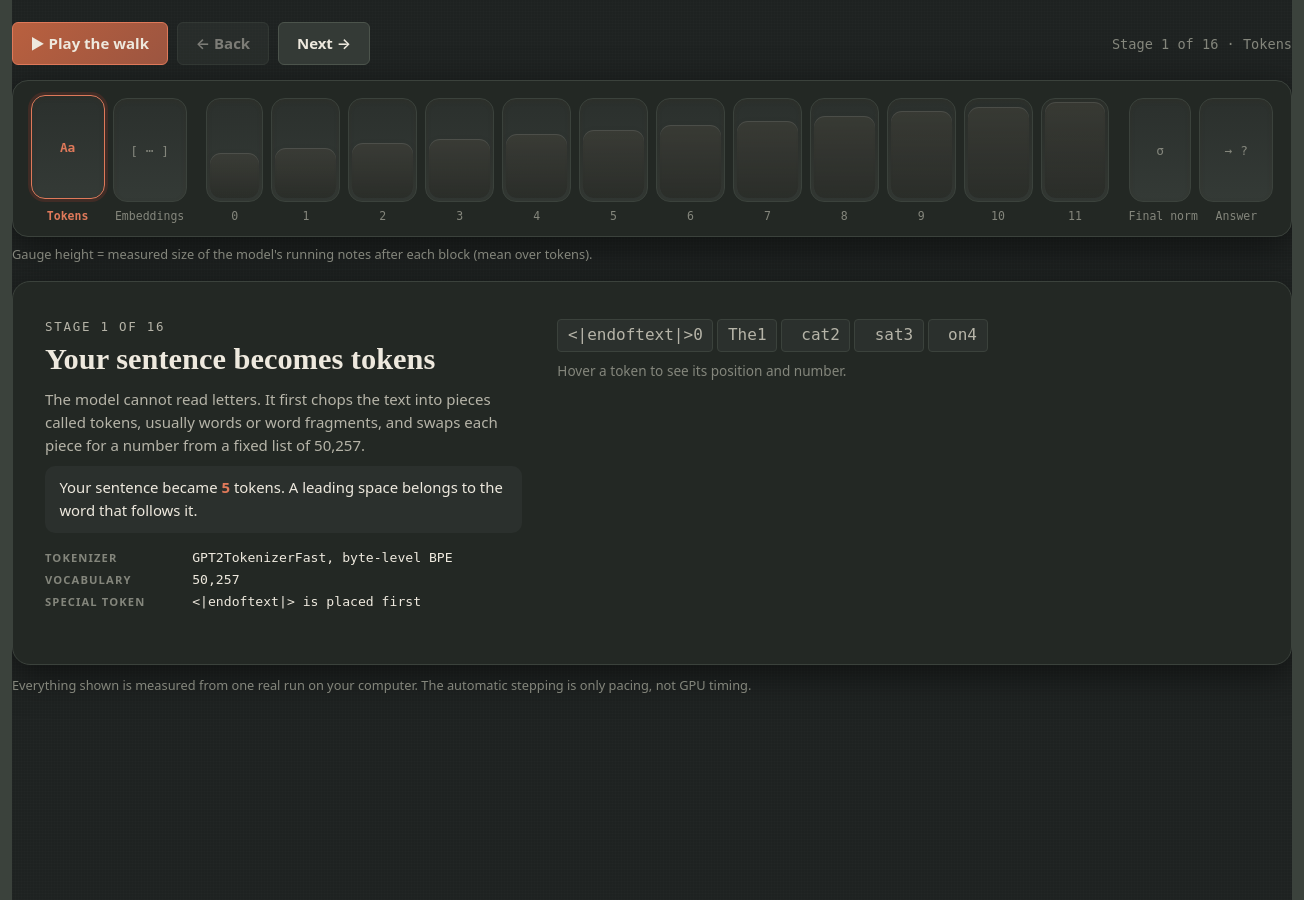
Test: guided tour › picking another head keeps the block and updates the explanation
Click the tab named "Block 0": (235, 161) left=206, top=98, right=264, bottom=223
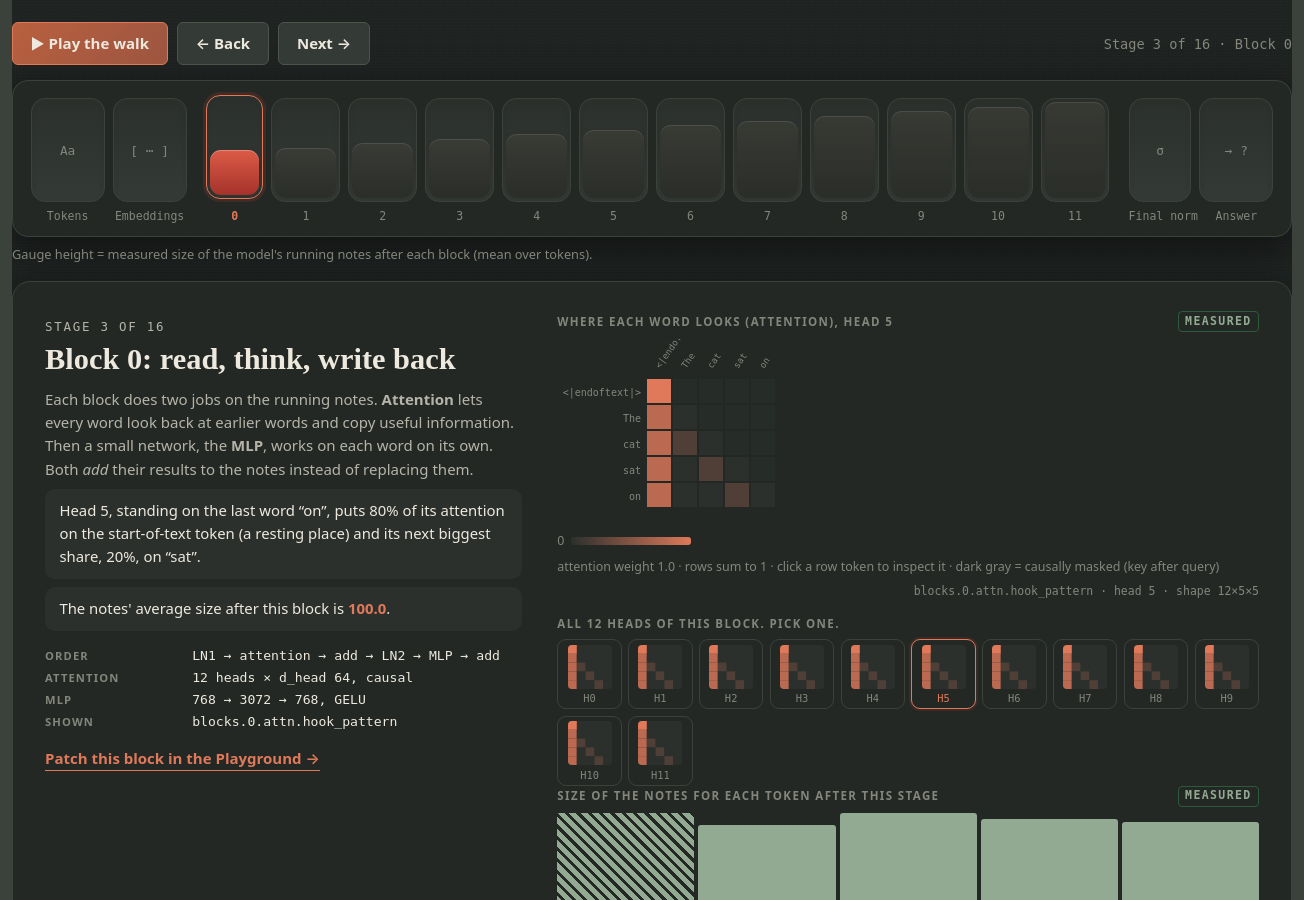
Click the button named "Head 2": (731, 674) left=699, top=639, right=763, bottom=709
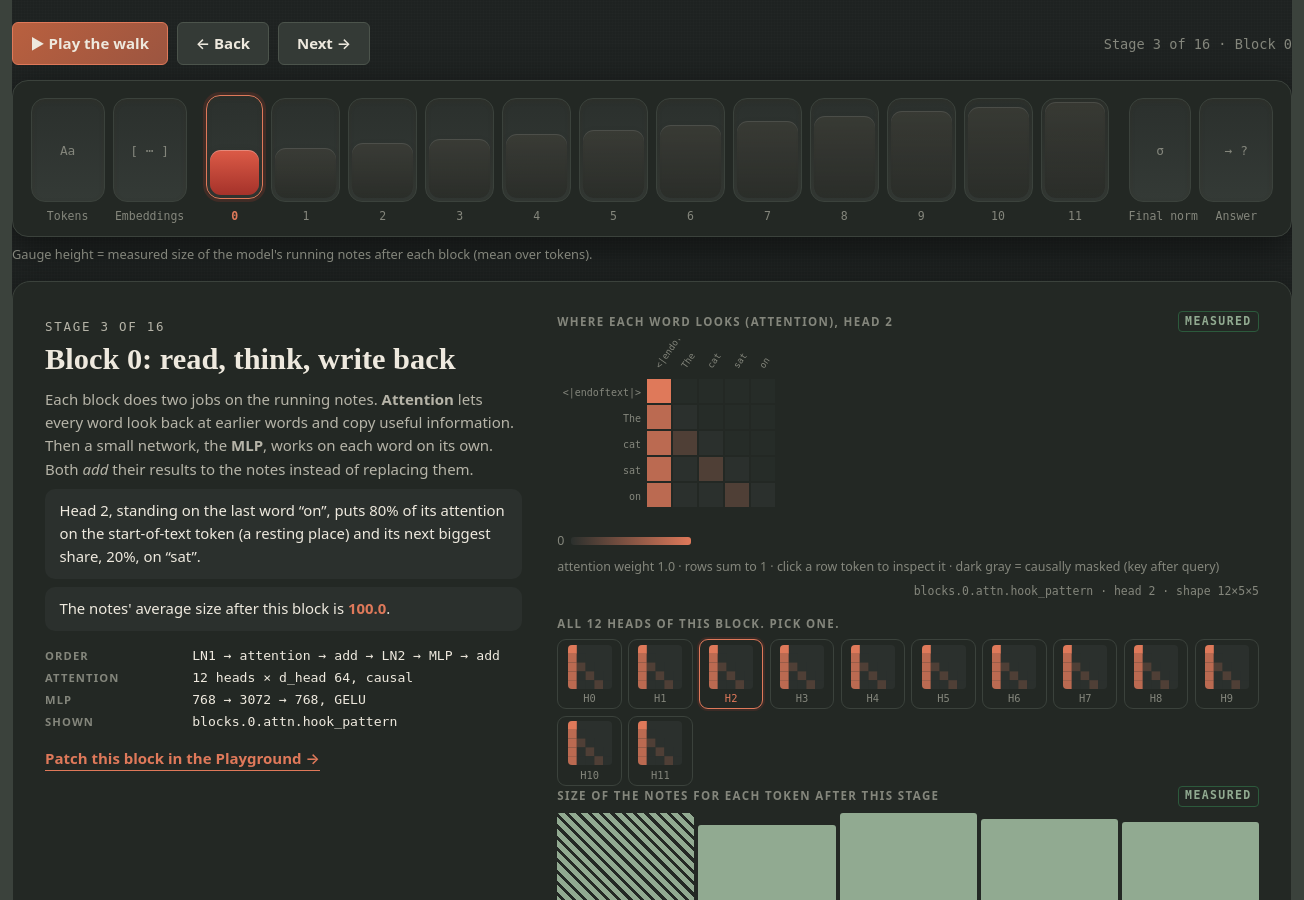
Result: the text "Head 2, standing on the last word" is shown at left=45, top=489, right=522, bottom=579
